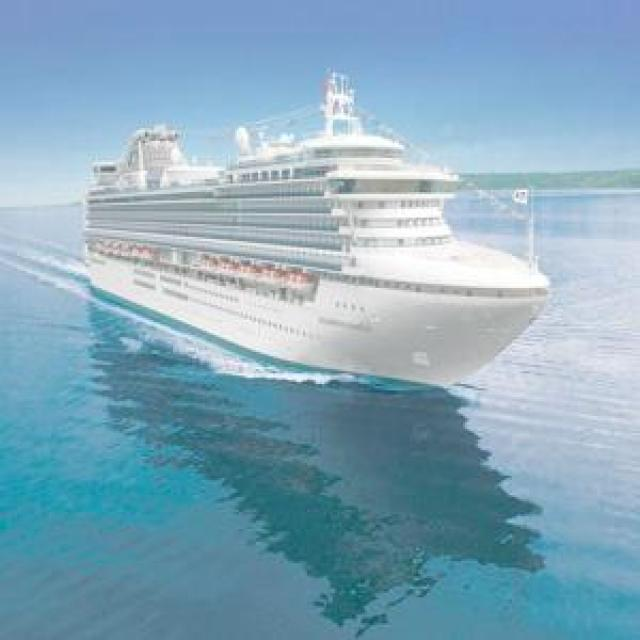passenger ship: (83, 64, 553, 387)
